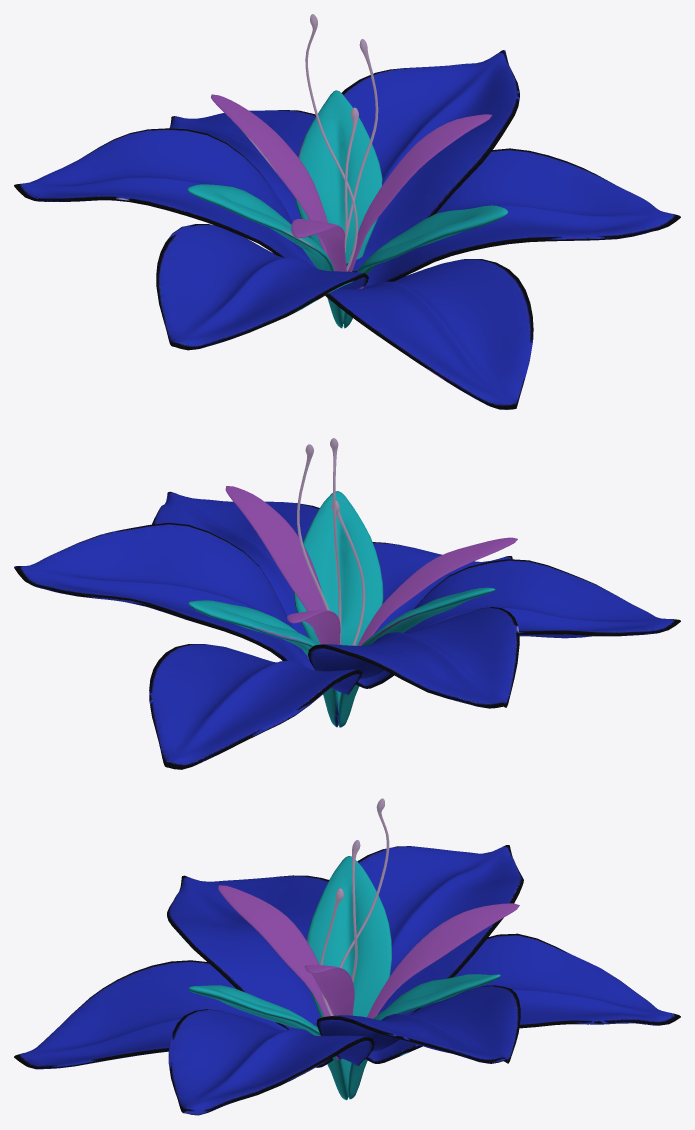
3 renders of one model, top to bottom at view 1: azimuth 30°, elevation 25°; view 2: azimuth 150°, elevation 25°; view 3: azimuth 270°, elevation 25°, orthographic. The views are drawn at different scales.
Visible parts, largest first — view 1: Plane_Material.004_0, Plane.001_Material.003_0, Plane.002_Material.002_0, Plane_Material.005_0; view 2: Plane_Material.004_0, Plane.001_Material.003_0, Plane.002_Material.002_0, Plane_Material.005_0; view 3: Plane_Material.004_0, Plane.001_Material.003_0, Plane.002_Material.002_0, Plane_Material.005_0.
Boxes of the visible parts, box(x1,y1,x2,y2) form: Plane_Material.004_0: box(21, 52, 673, 405); Plane.001_Material.003_0: box(187, 90, 508, 328); Plane.002_Material.002_0: box(211, 14, 491, 271); Plane_Material.005_0: box(14, 50, 680, 409); Plane_Material.004_0: box(21, 492, 673, 764); Plane.001_Material.003_0: box(188, 491, 495, 727); Plane.002_Material.002_0: box(225, 438, 517, 645); Plane_Material.005_0: box(14, 491, 680, 769); Plane_Material.004_0: box(20, 846, 674, 1110); Plane.001_Material.003_0: box(188, 856, 500, 1100); Plane.002_Material.002_0: box(218, 798, 519, 1018); Plane_Material.005_0: box(14, 845, 680, 1115).
Bounding box in the file's own units: 6.01 × 3.41 × 7.
4 materials, 4 textured.
